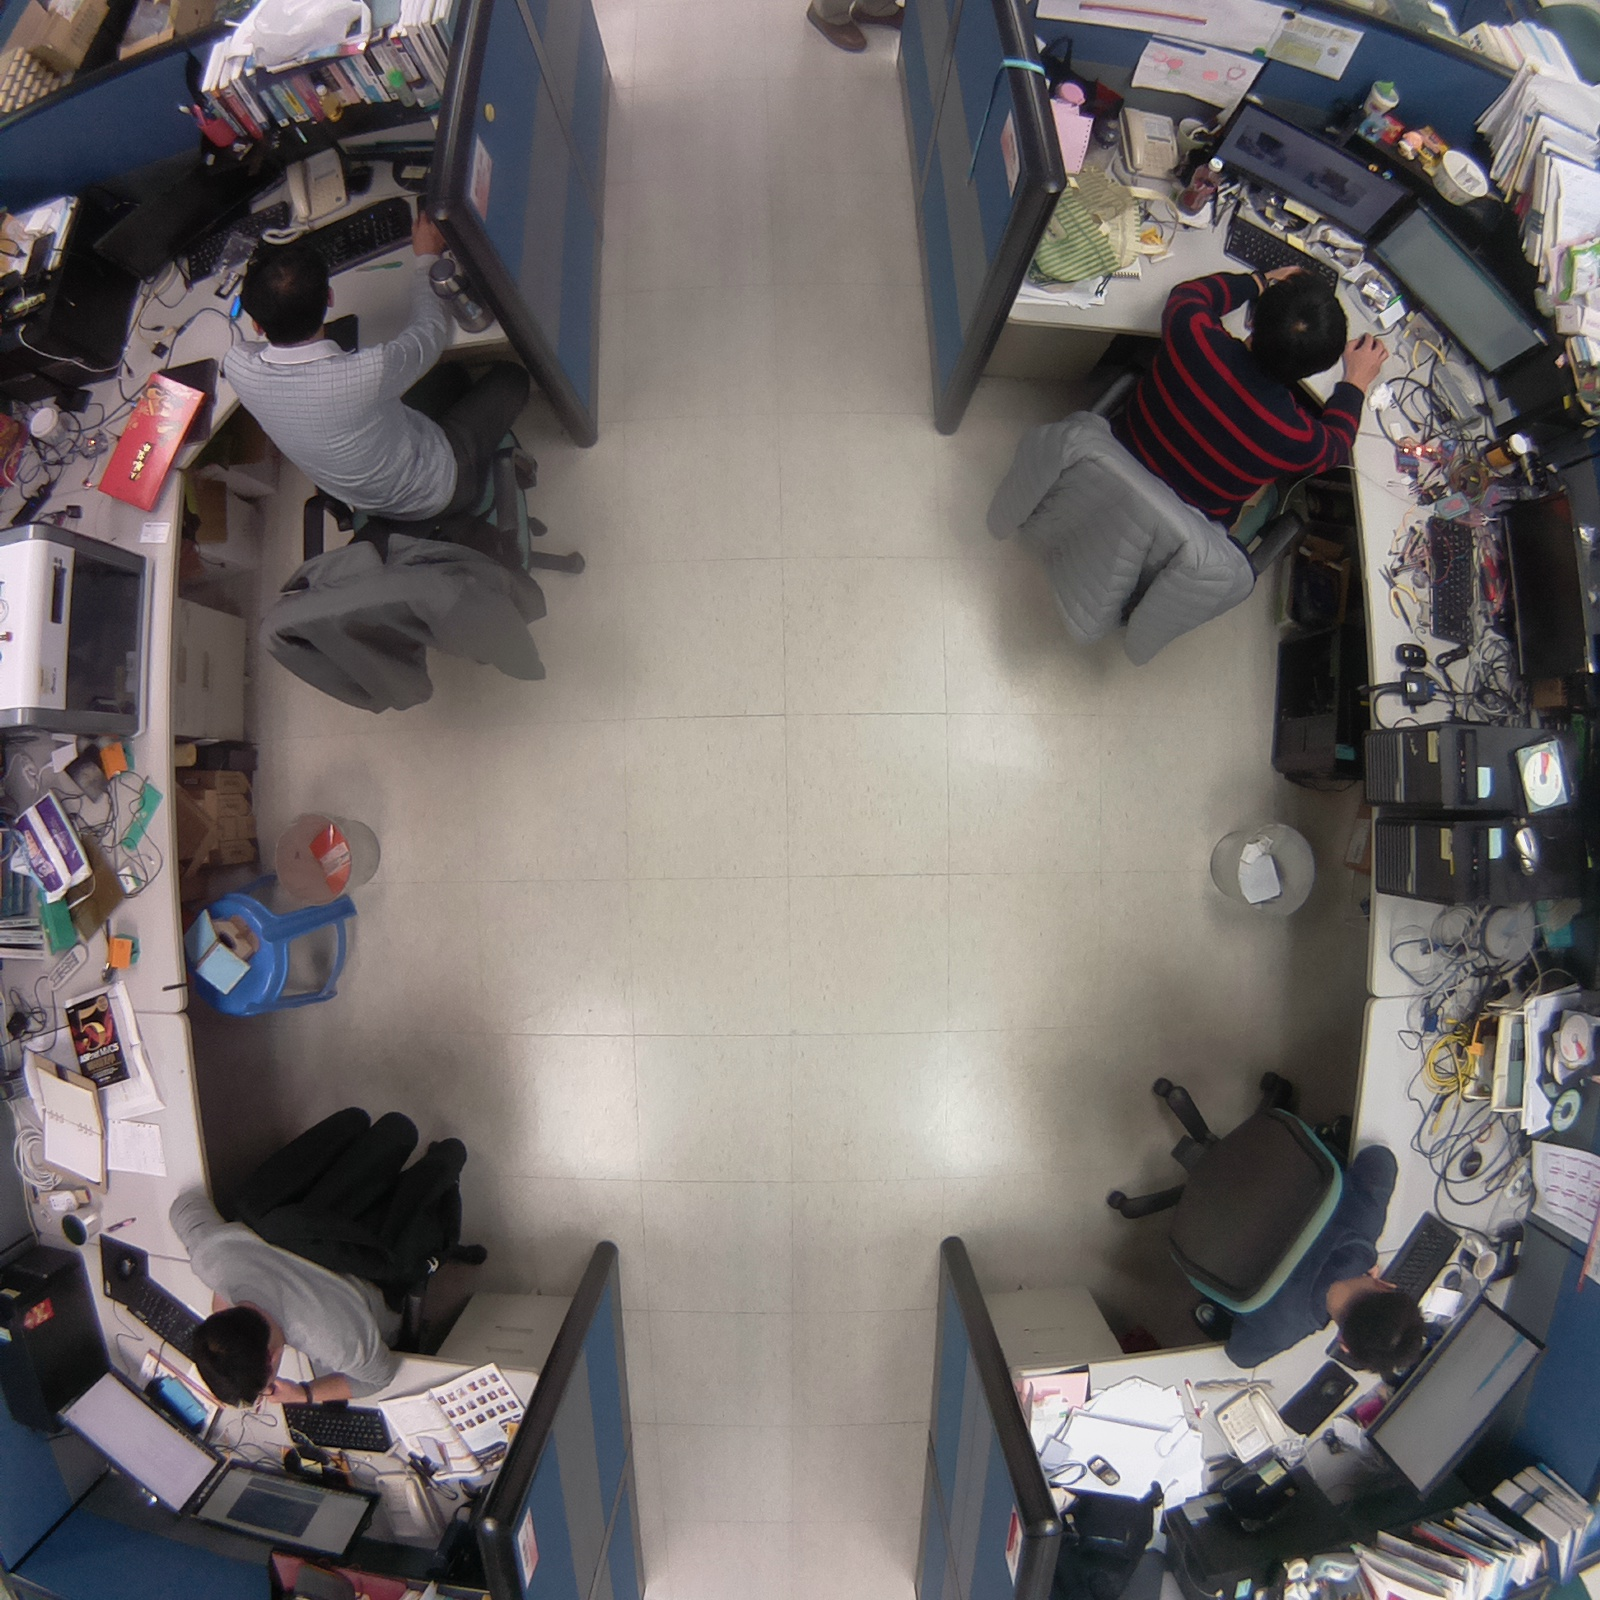head: (1234, 261, 1353, 385), (227, 234, 342, 355), (180, 1297, 289, 1412), (1325, 1270, 1427, 1382)
sitting: (220, 234, 612, 727), (955, 251, 1393, 681), (1083, 1034, 1432, 1387), (146, 1081, 501, 1429)
